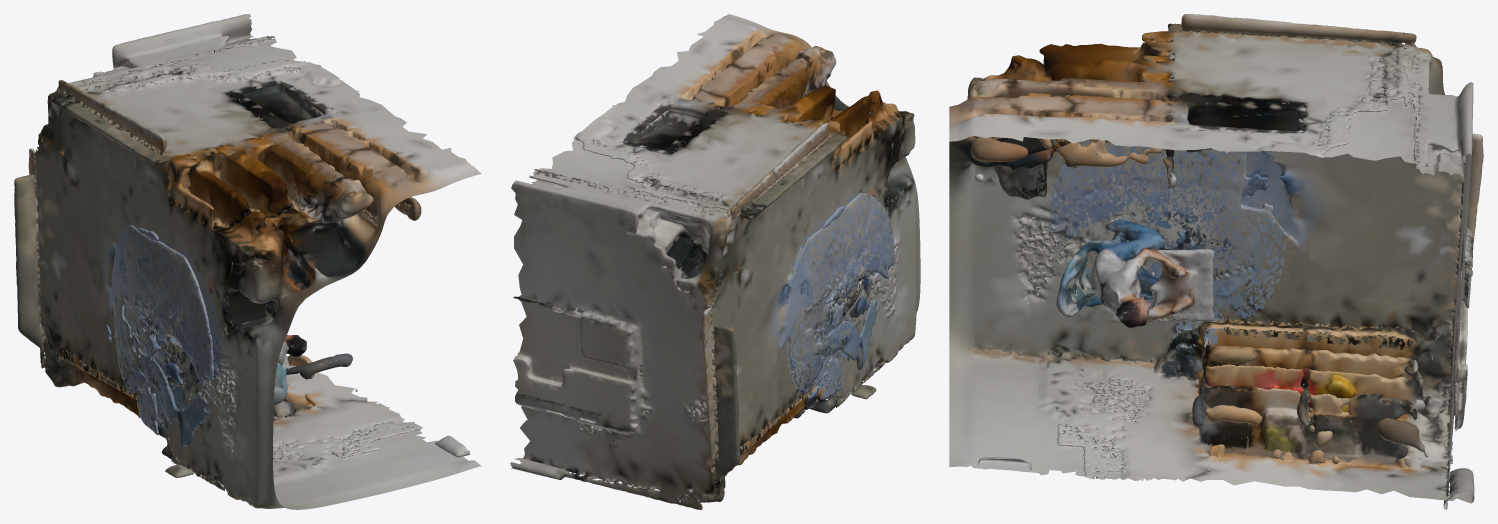
The picture shows the model from 3 angles, left to right: view 1: azimuth 30°, elevation 25°; view 2: azimuth 150°, elevation 25°; view 3: azimuth 270°, elevation 25°; orthographic projection. The views are drawn at different scales.
Visible parts, largest first — view 1: answering_questions_81; view 2: answering_questions_81; view 3: answering_questions_81.
Boxes of the visible parts, bbox=[...] form: answering_questions_81: bbox=[14, 14, 481, 509]; answering_questions_81: bbox=[510, 14, 920, 509]; answering_questions_81: bbox=[949, 14, 1483, 509].
Bounding box in the file's own units: 2.38 × 3.23 × 4.11.
Materials: 1 (1 with a texture image).
